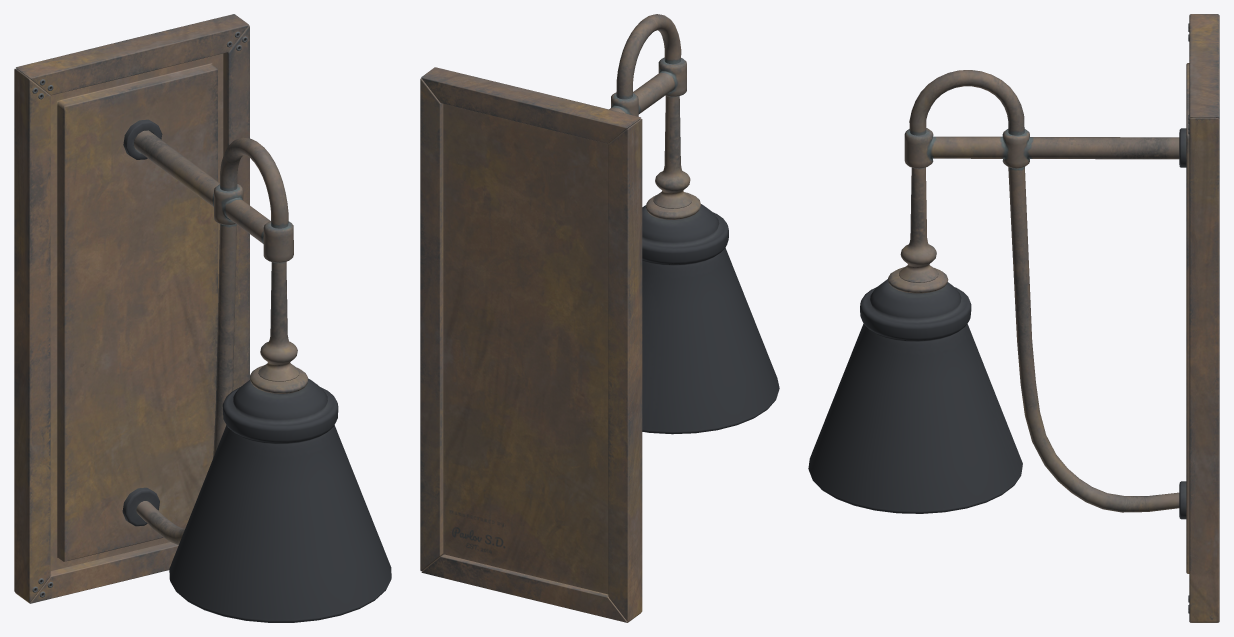
The model's file is lamp_17.glb.
The picture shows the model from 3 angles, left to right: view 1: azimuth 30°, elevation 25°; view 2: azimuth 150°, elevation 25°; view 3: azimuth 270°, elevation 25°; orthographic projection. The views are drawn at different scales.
Parts seen in each view (by area): view 1: industrial_wall_sconce; view 2: industrial_wall_sconce; view 3: industrial_wall_sconce.
Boxes of the visible parts, x1,y1,x2,y2 form: industrial_wall_sconce: (14, 14, 391, 622); industrial_wall_sconce: (420, 14, 779, 622); industrial_wall_sconce: (808, 14, 1219, 622).
Bounding box in the file's own units: 0.1503 × 0.3418 × 0.2516.
Materials: 2 (1 with a texture image).
